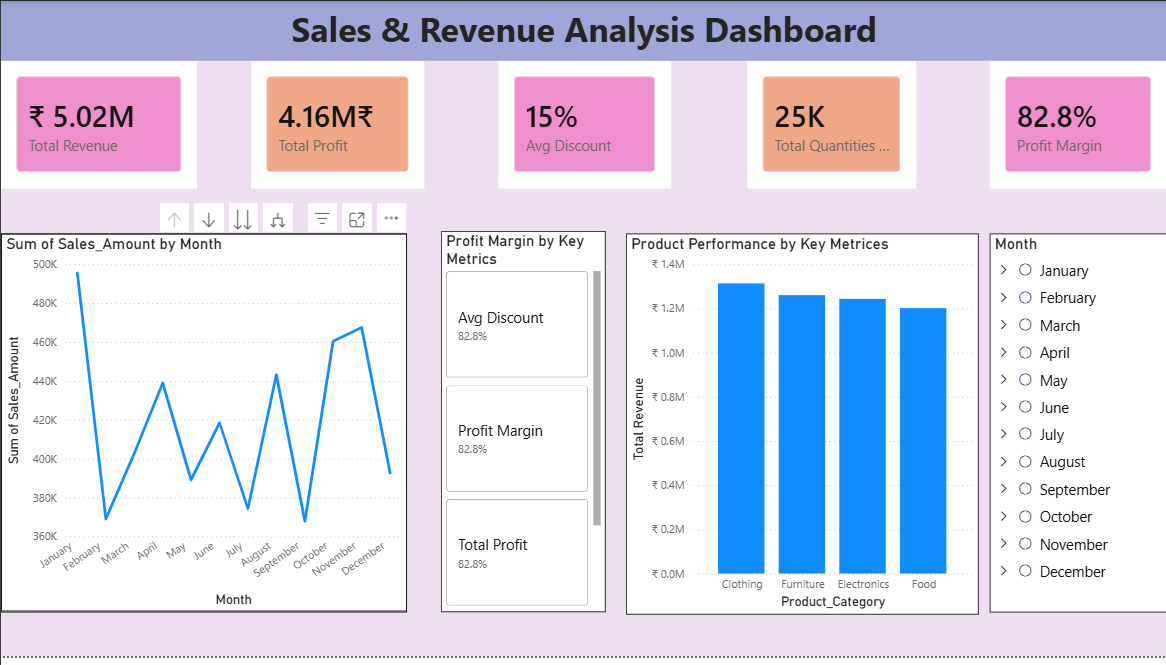

The dashboard page shown, as its layout file describes it:
{"tool":"powerbi","page":{"name":"Page 1","canvas":[1280,720],"ordinal":0},"visuals":[{"type":"cardVisual","fields":{"Data":["sales_data.Total Revenue"]},"box":[0,65.9,215.4,140],"z":0},{"type":"textbox","box":[0,0,1280.3,65.9],"z":1000},{"type":"cardVisual","fields":{"Data":["sales_data.Total Profit"]},"box":[274.4,65.9,190.7,140],"z":2000},{"type":"cardVisual","fields":{"Data":["sales_data.Avg Discount"]},"box":[546.1,65.9,189.4,140],"z":3000},{"type":"cardVisual","fields":{"Data":["Sum(sales_data.Quantity_Sold)"]},"box":[819.2,65.9,185.2,140],"z":4000},{"type":"listSlicer","fields":{"Values":["sales_data.Sale_Date.Variation.Date Hierarchy.Month","sales_data.Sale_Date.Variation.Date Hierarchy.Day"]},"box":[1085.4,255.2,194.9,415.8],"z":5000},{"type":"lineChart","fields":{"Y":["Sum(sales_data.Sales_Amount)"],"Category":["sales_data.Sale_Date.Variation.Date Hierarchy.Month","sales_data.Sale_Date.Variation.Date Hierarchy.Day"]},"box":[0,255.2,446,415.8],"z":6000},{"type":"clusteredColumnChart","title":"Product Performance by Key Metrices","fields":{"Y":["sales_data.Total Revenue"],"Category":["sales_data.Product_Category"]},"box":[686.1,255.2,387,418.5],"z":7000},{"type":"cardVisual","fields":{"Data":["sales_data.Profit Margin"]},"box":[1085.4,65.9,194.9,140],"z":8000},{"type":"advancedSlicerVisual","fields":{"Values":["Key Metrics.Key Metrics"],"Label":["sales_data.Profit Margin"]},"box":[483,252.5,181.1,418.5],"z":9000}]}

Visuals, with their boxes in screenshot pixels (x1, y1, x2, y2):
cardVisual - sales_data.Total Revenue: l=0, t=59, r=194, b=185
textbox: l=0, t=0, r=1150, b=59
cardVisual - sales_data.Total Profit: l=247, t=59, r=418, b=185
cardVisual - sales_data.Avg Discount: l=491, t=59, r=661, b=185
cardVisual - Sum(sales_data.Quantity_Sold): l=736, t=59, r=902, b=185
listSlicer - sales_data.Sale_Date.Variation.Date Hierarchy.Month x sales_data.Sale_Date.Variation.Date Hierarchy.Day: l=975, t=229, r=1150, b=603
lineChart - Sum(sales_data.Sales_Amount) x sales_data.Sale_Date.Variation.Date Hierarchy.Month: l=0, t=229, r=401, b=603
"Product Performance by Key Metrices" clusteredColumnChart: l=616, t=229, r=964, b=605
cardVisual - sales_data.Profit Margin: l=975, t=59, r=1150, b=185
advancedSlicerVisual - Key Metrics.Key Metrics x sales_data.Profit Margin: l=434, t=227, r=597, b=603
